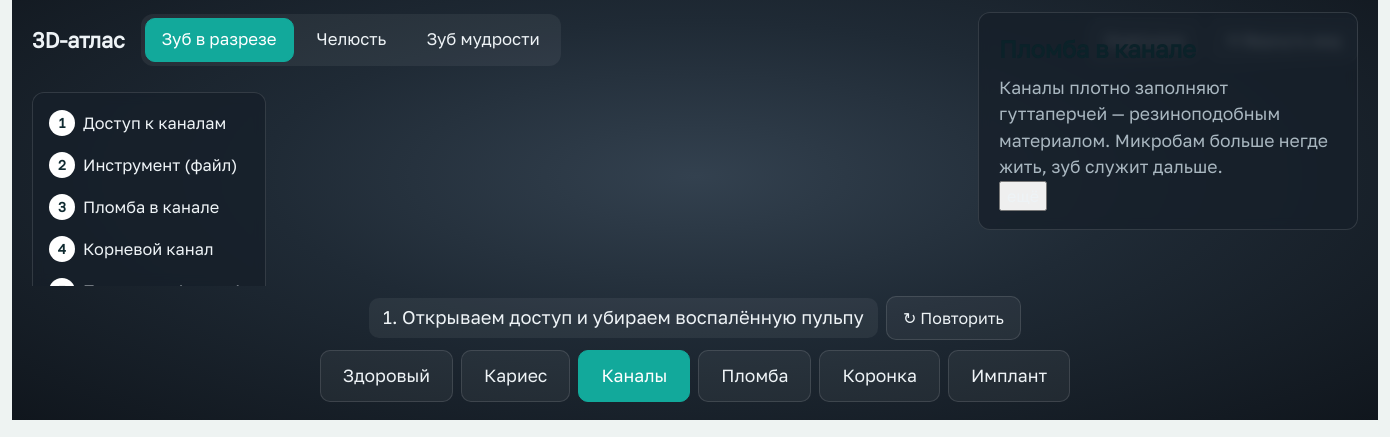
<Atlas /> › телефон › длинное описание — 3 строки и «ещё», раскрывается по нажатию
Click the button "ещё" at (1023, 196), box [999,181,1047,211]
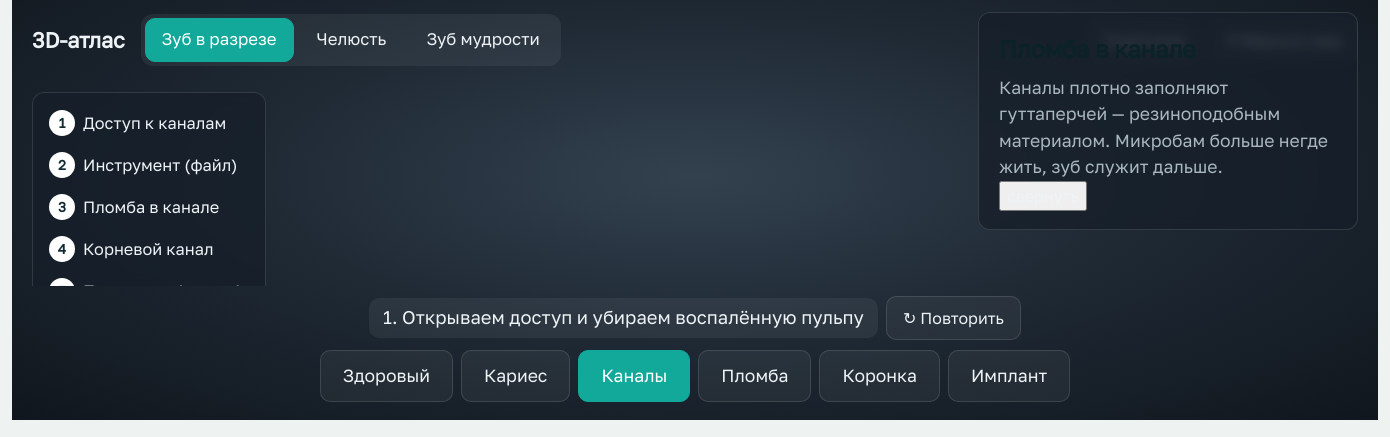
Check: the button "свернуть" is expanded, box [999,181,1087,211]
